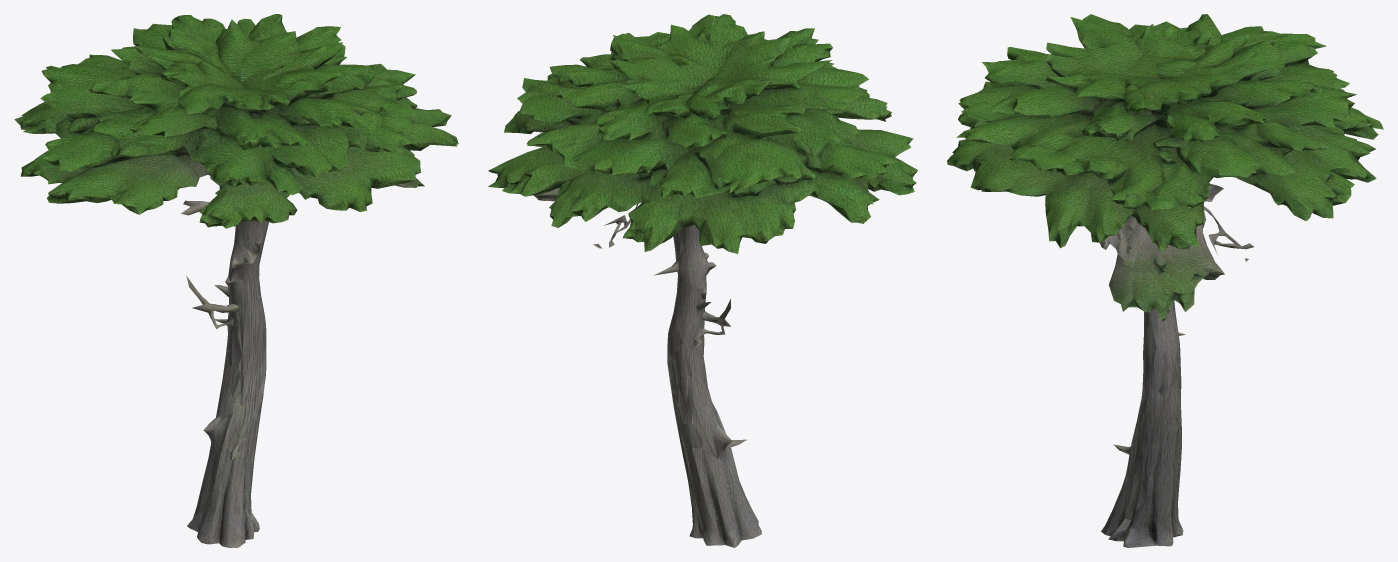
File: tree-cypress-r1.glb
The picture shows the model from 3 angles, left to right: view 1: azimuth 30°, elevation 25°; view 2: azimuth 150°, elevation 25°; view 3: azimuth 270°, elevation 25°; orthographic projection. The views are drawn at different scales.
Visible parts, largest first — view 1: Mesh; view 2: Mesh; view 3: Mesh.
Part boxes in pixels (left/top/right/bottom): Mesh: left=14, top=14, right=458, bottom=547; Mesh: left=488, top=14, right=918, bottom=547; Mesh: left=947, top=14, right=1383, bottom=547.
Bounding box in the file's own units: 1.48 × 1.69 × 1.37.
1 material, 1 textured.
